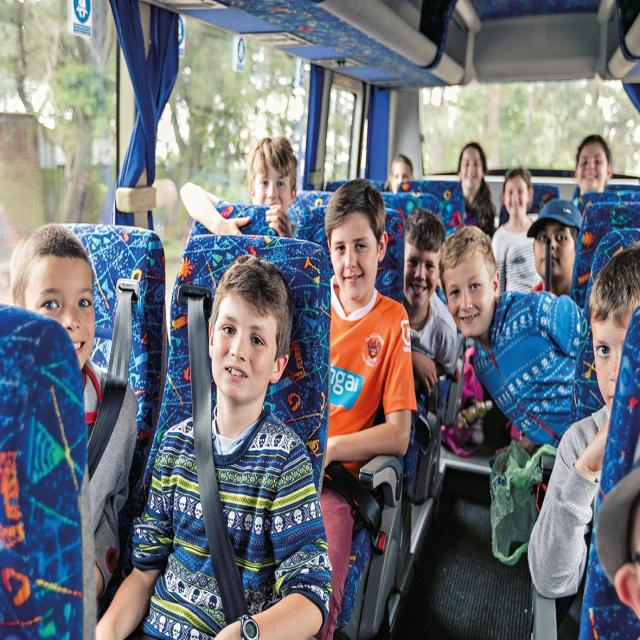body: (94, 252, 335, 640), (7, 219, 141, 622), (311, 180, 417, 640), (526, 246, 640, 601), (438, 223, 584, 448), (178, 136, 300, 238), (402, 208, 459, 398), (489, 162, 548, 299), (592, 459, 640, 616), (524, 196, 585, 300), (436, 140, 498, 240), (569, 132, 615, 205), (388, 153, 414, 195)
